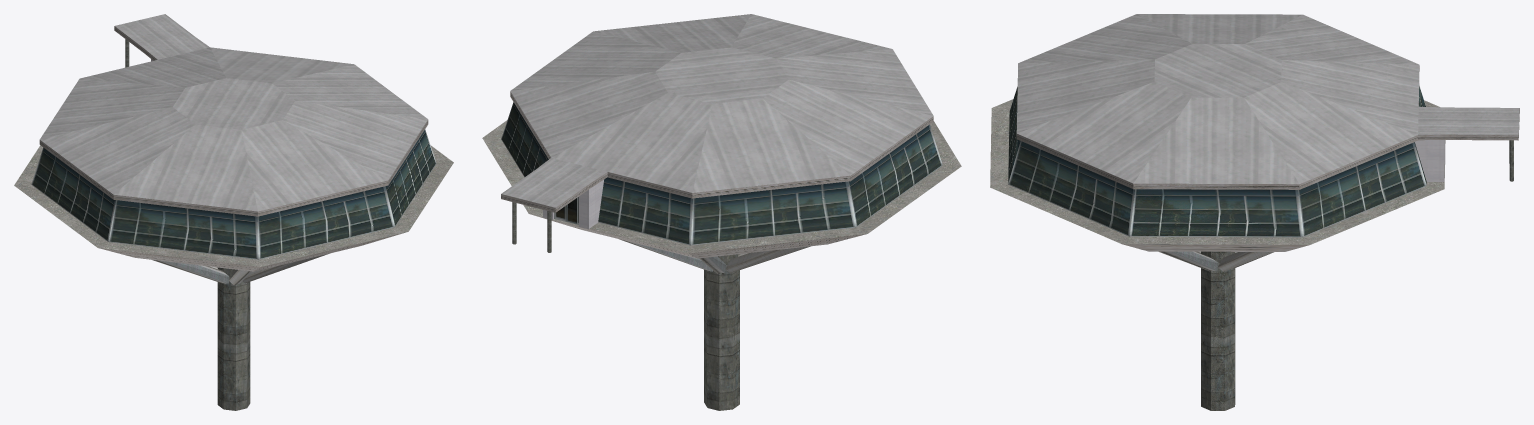
The model's file is opmans01_cunte.obj.
3 renders of one model, left to right at view 1: azimuth 30°, elevation 25°; view 2: azimuth 150°, elevation 25°; view 3: azimuth 270°, elevation 25°, orthographic. The views are drawn at different scales.
Visible parts, largest first — view 1: opmans01_cunte; view 2: opmans01_cunte; view 3: opmans01_cunte.
Part boxes in pixels (box(x1,y1,x2,y2)): opmans01_cunte: box(14, 14, 453, 410); opmans01_cunte: box(482, 14, 961, 410); opmans01_cunte: box(990, 14, 1519, 410).
Bounding box in the file's own units: 37.08 × 29.87 × 43.07.
